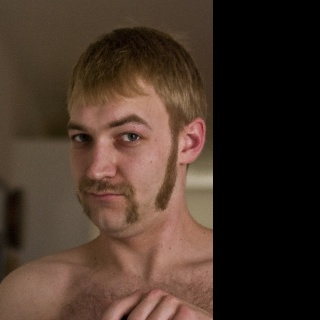without_mask: (67, 101, 182, 231)
